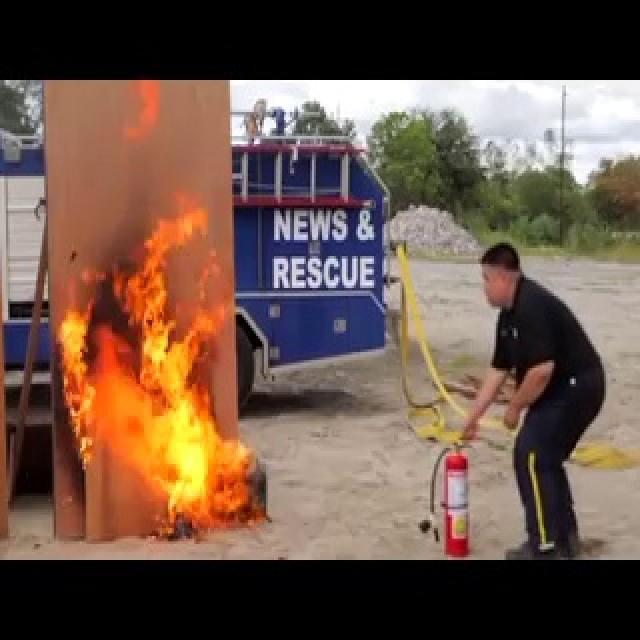fire: (65, 168, 267, 539)
